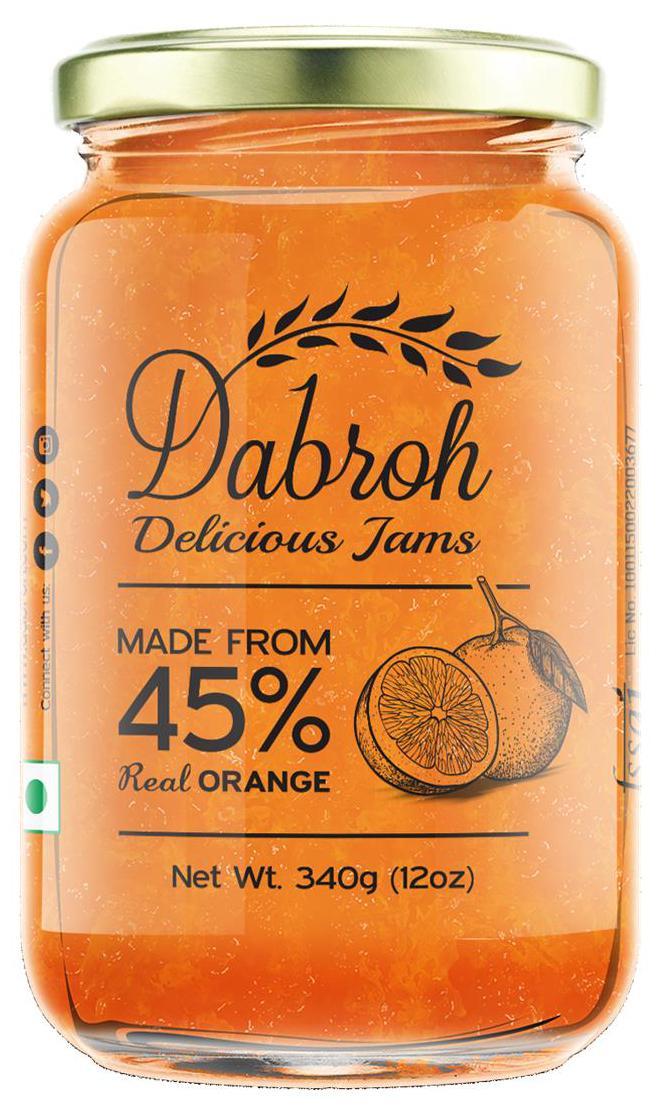JAR: (11, 17, 649, 1095)
